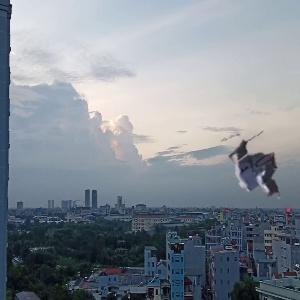drone: (208, 127, 297, 216)
